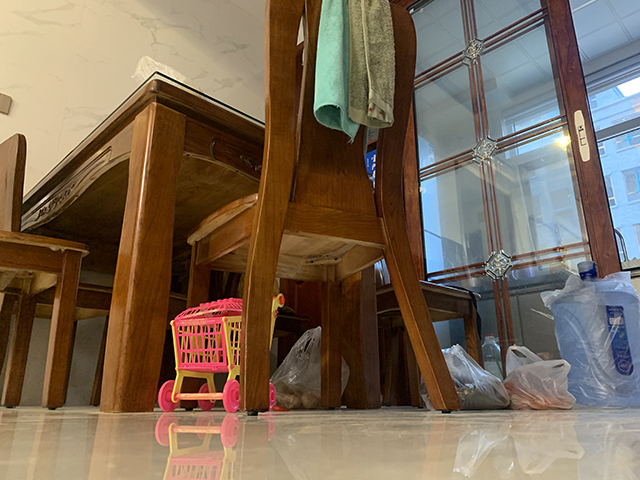stool: (182, 1, 460, 416)
table: (18, 69, 266, 415)
